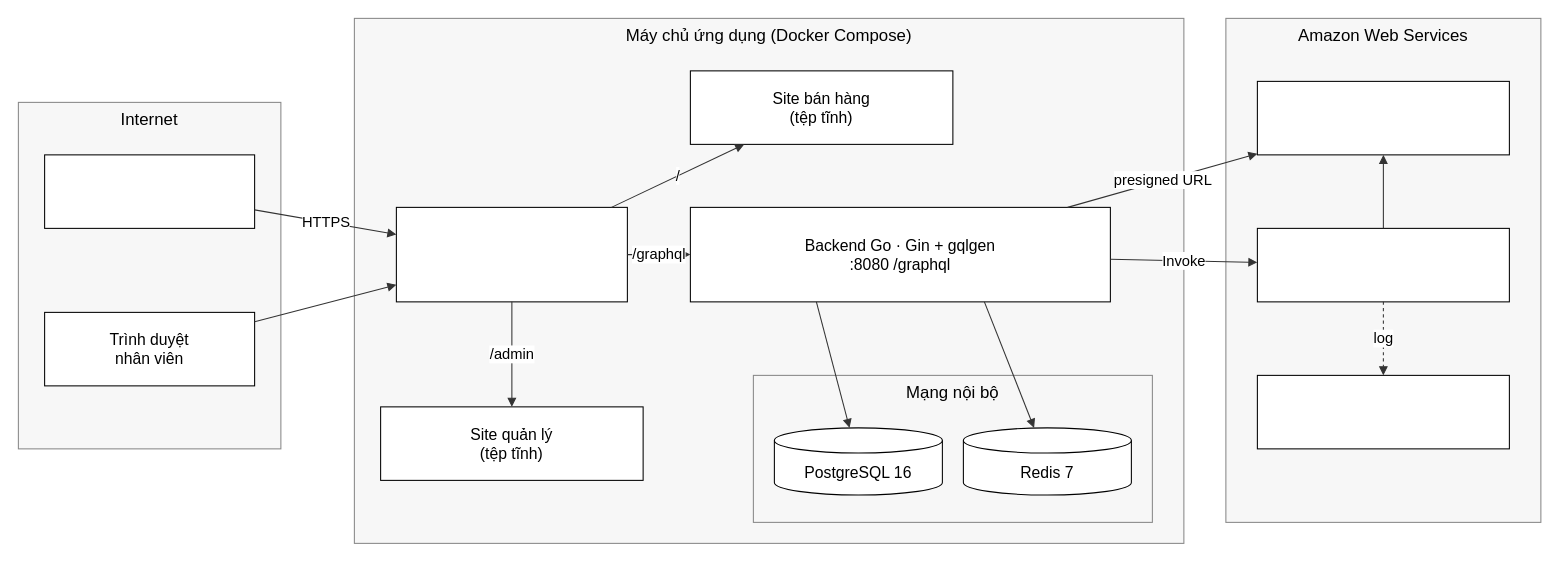
This 1559x562 diagram has some shape labels left out. Each missing label, with the centre of its shape:
"CloudWatch Logs" belongs at [1382,411].
"Lambda render-preview" belongs at [1382,264].
"Nginx HTTPS · reverse proxy" belongs at [511,254].
"S3 bucket pod-design-assets" belongs at [1382,117].
"Trình duyệt khách hàng" belongs at [149,191].
